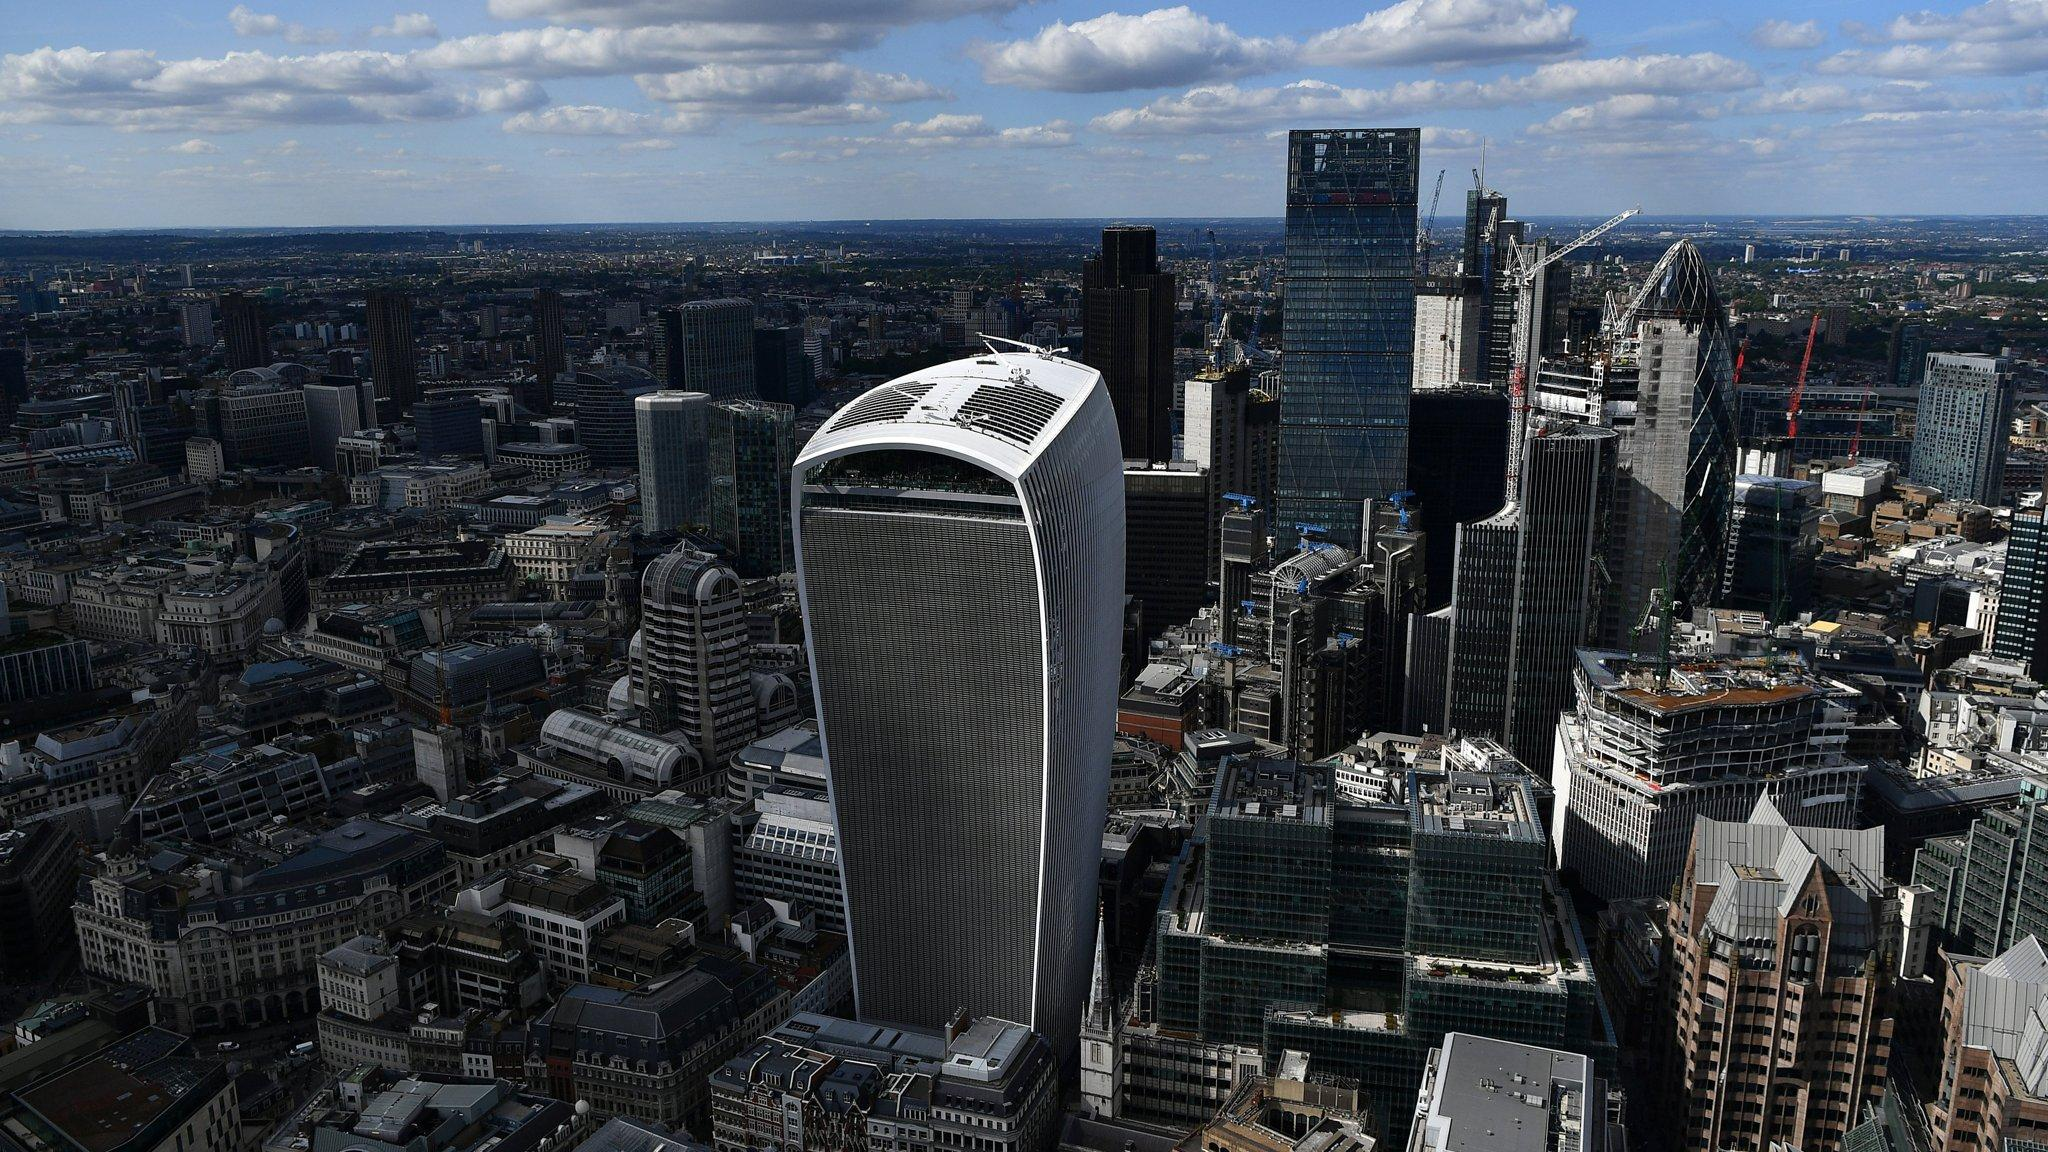Walkie talkie: (772, 314, 1170, 1037)
